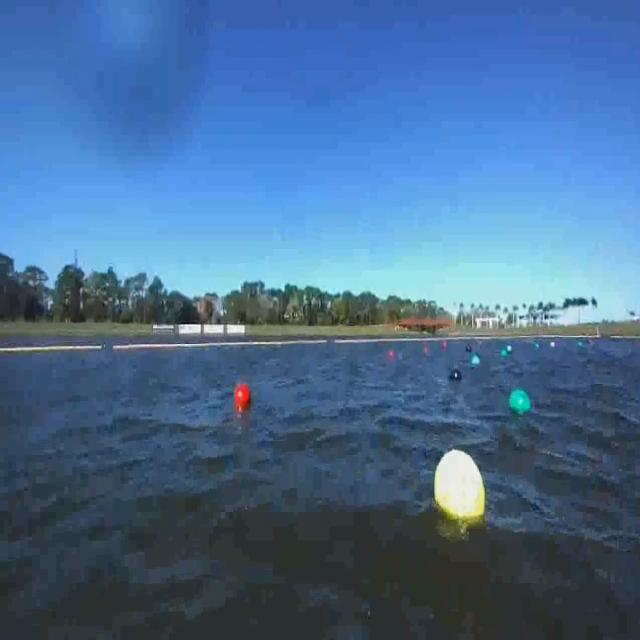black-buoy: (448, 368, 461, 381)
green-buoy: (507, 391, 529, 417)
red-buoy: (234, 382, 249, 404)
yellow-buoy: (434, 450, 486, 525)
